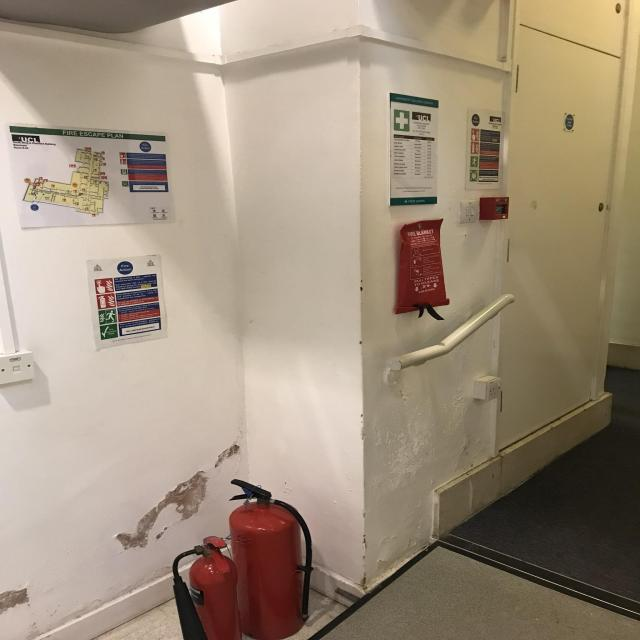fire_extinguisher: (220, 472, 316, 640), (165, 530, 251, 640)
